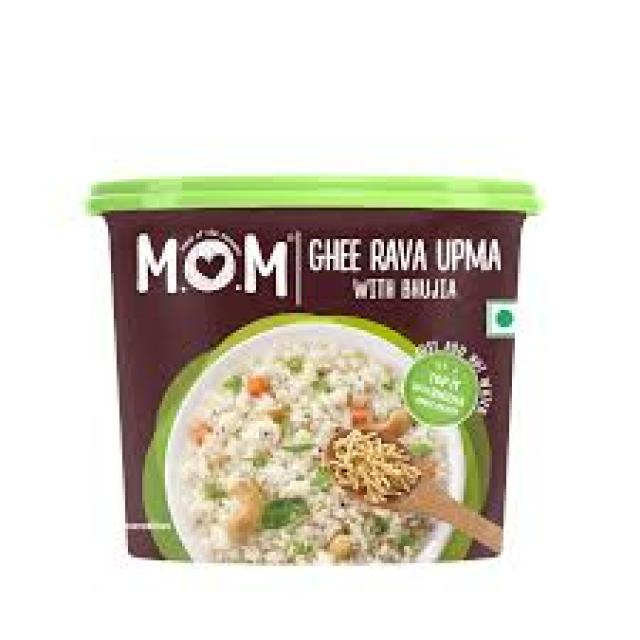UPMA: (176, 338, 452, 555)
